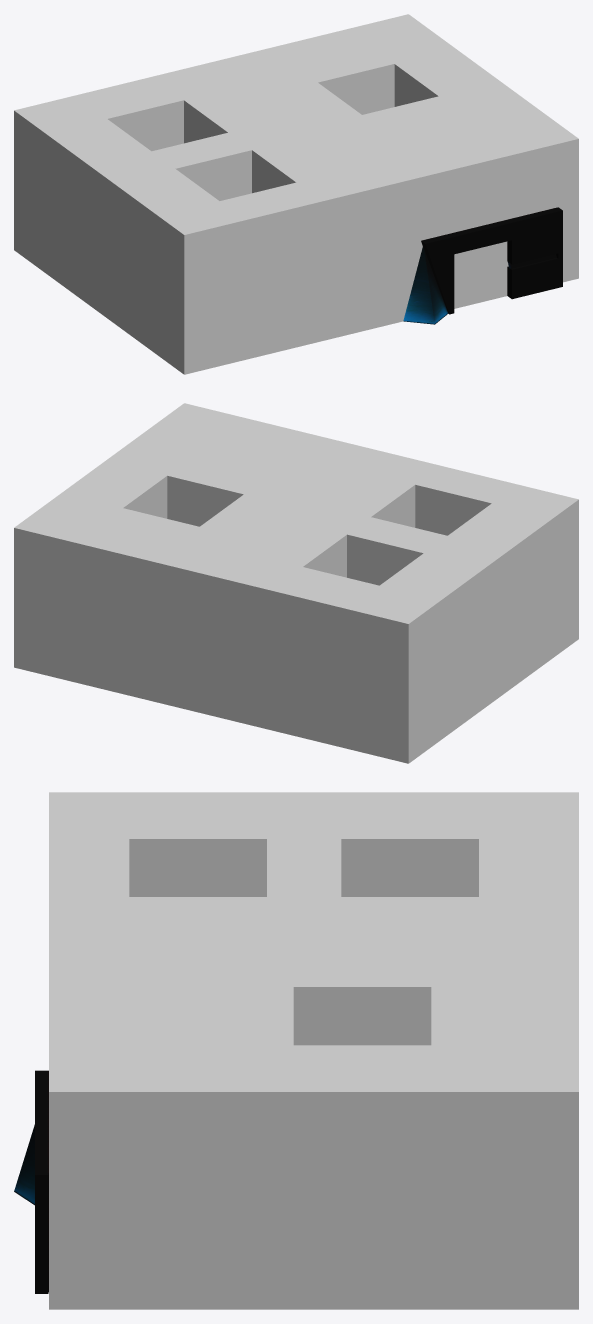
File: 孔孔艺术馆4.FBX
The picture shows the model from 3 angles, top to bottom: view 1: azimuth 30°, elevation 25°; view 2: azimuth 150°, elevation 25°; view 3: azimuth 270°, elevation 25°; orthographic projection. The views are drawn at different scales.
Visible parts, largest first — view 1: top_01, wall_03, door_01; view 2: top_01, wall_03; view 3: top_01, wall_03, door_01.
Part boxes in pixels (box(x1,y1,x2,y2)): top_01: box(14, 14, 578, 284); wall_03: box(14, 161, 578, 374); door_01: box(403, 207, 562, 324); top_01: box(14, 403, 578, 673); wall_03: box(14, 550, 578, 763); top_01: box(49, 792, 578, 1169); wall_03: box(49, 1170, 578, 1309); door_01: box(14, 1070, 48, 1293).
Size of what is drawn, in the model's own units: 20600 by 6970 by 16413.
7 materials, 3 textured.
